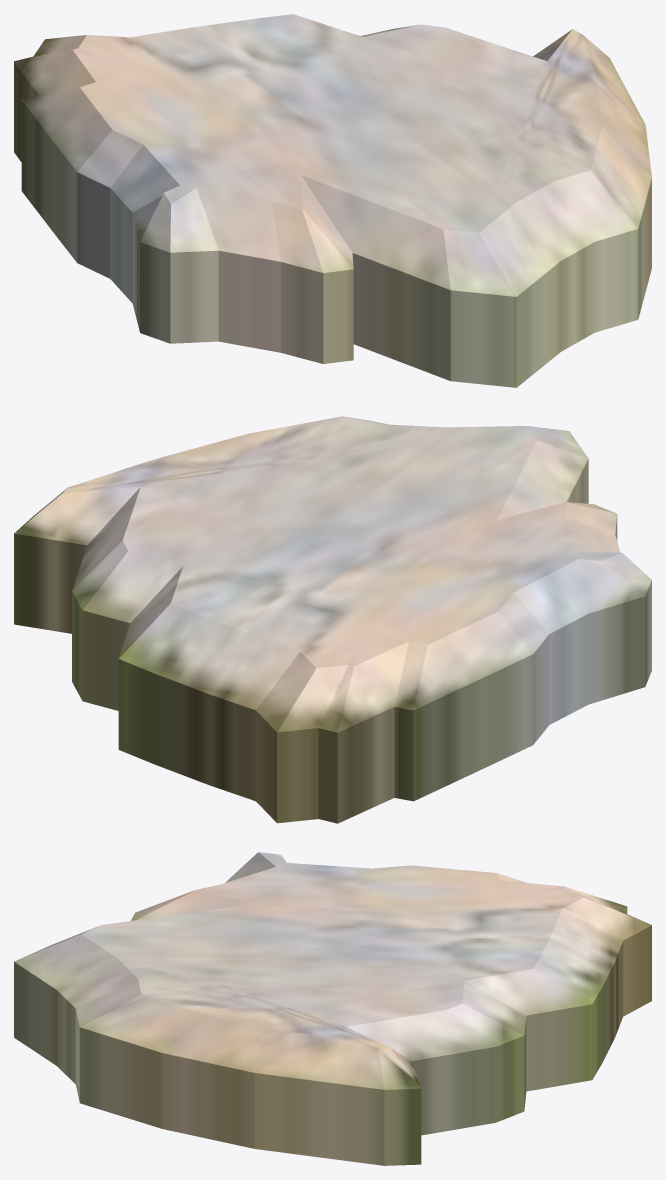
The model's file is stone.26.fbx.
3 renders of one model, top to bottom at view 1: azimuth 30°, elevation 25°; view 2: azimuth 150°, elevation 25°; view 3: azimuth 270°, elevation 25°, orthographic. The views are drawn at different scales.
Parts seen in each view (by area): view 1: stone.26; view 2: stone.26; view 3: stone.26.
Boxes of the visible parts, <box> form: stone.26: <box>14,14,651,387</box>; stone.26: <box>14,416,651,823</box>; stone.26: <box>14,852,651,1165</box>.
Size of the model in its own units: 44.12 by 9.74 by 53.95.
1 material, 1 textured.
